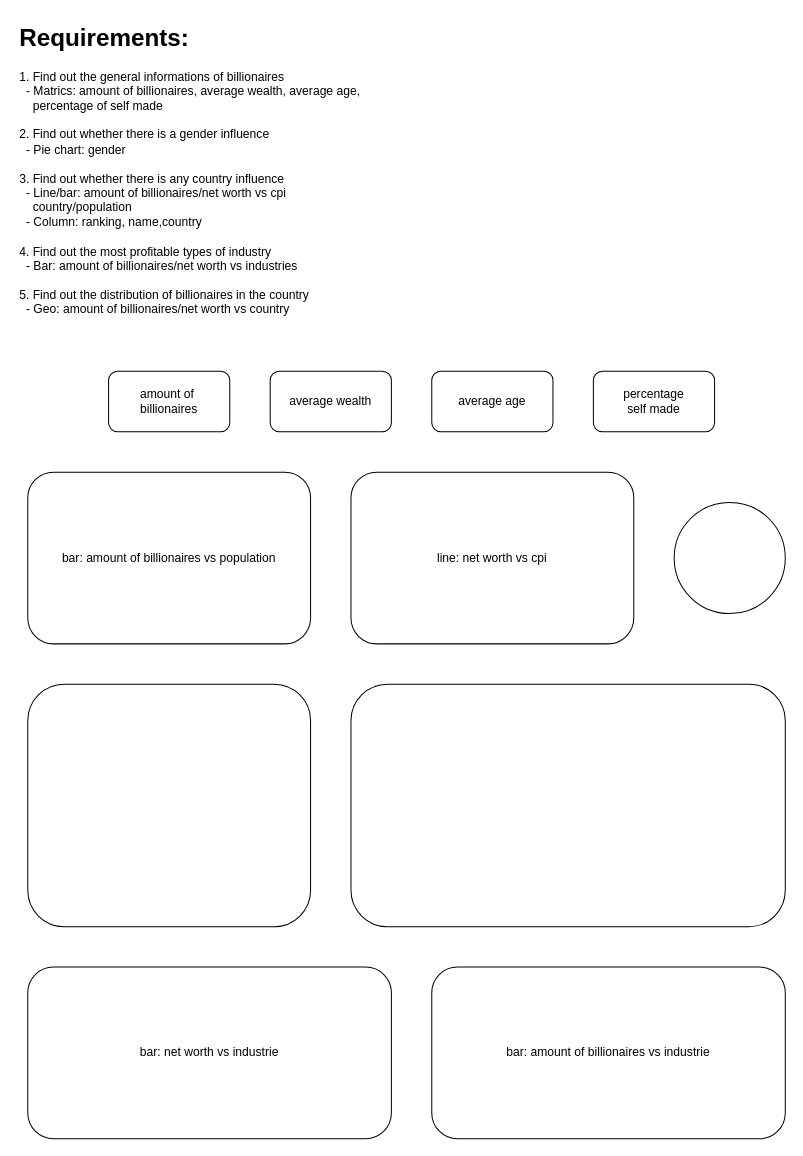
Some shapes in this 803 by 1156 pixel diagram are drawn without their labels. The box of each missing label's shape, as (x1, y1, x2, y2) in pixels:
column: rank, name, country: (27, 683, 311, 927)
gender: (673, 501, 785, 614)
geo: amount of billionaires vs country: (350, 683, 785, 927)
